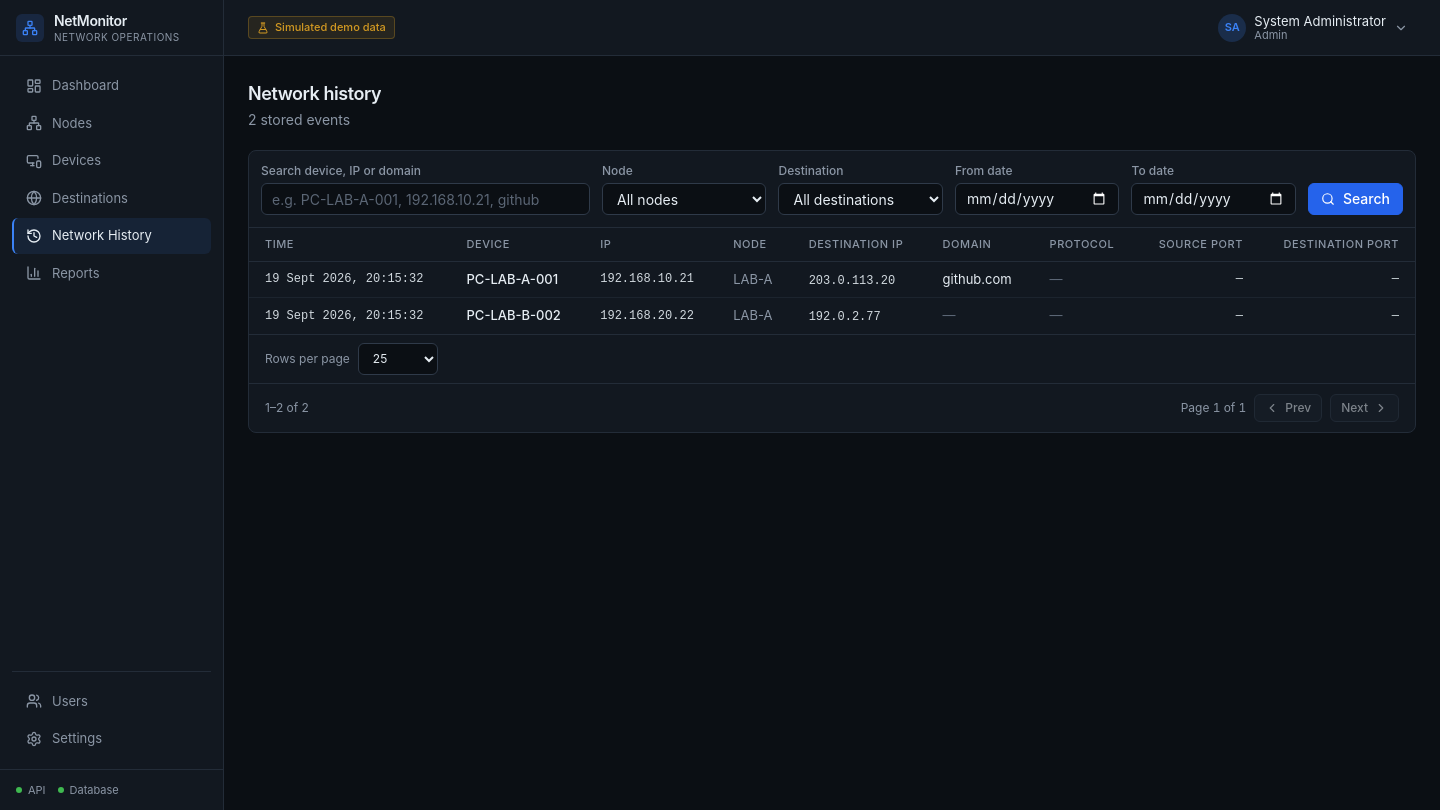
Scenario: HistoryPage › opens and closes the event detail panel
Click the row "PC-LAB-A-001" at (832, 279), box 249,261 -> 1415,298
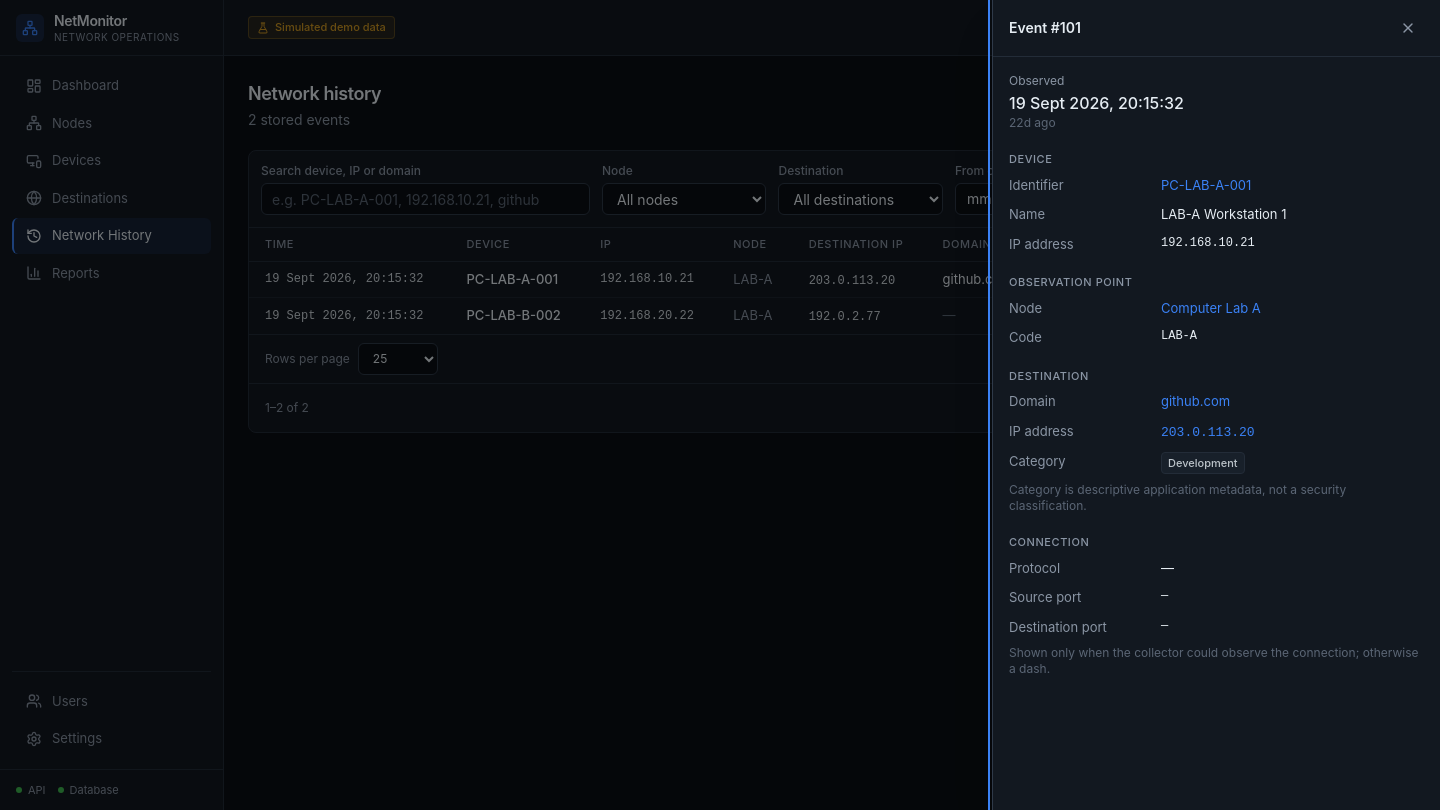
Check: the link "github.com" is shown, box 1161,393 -> 1230,409
Press Escape
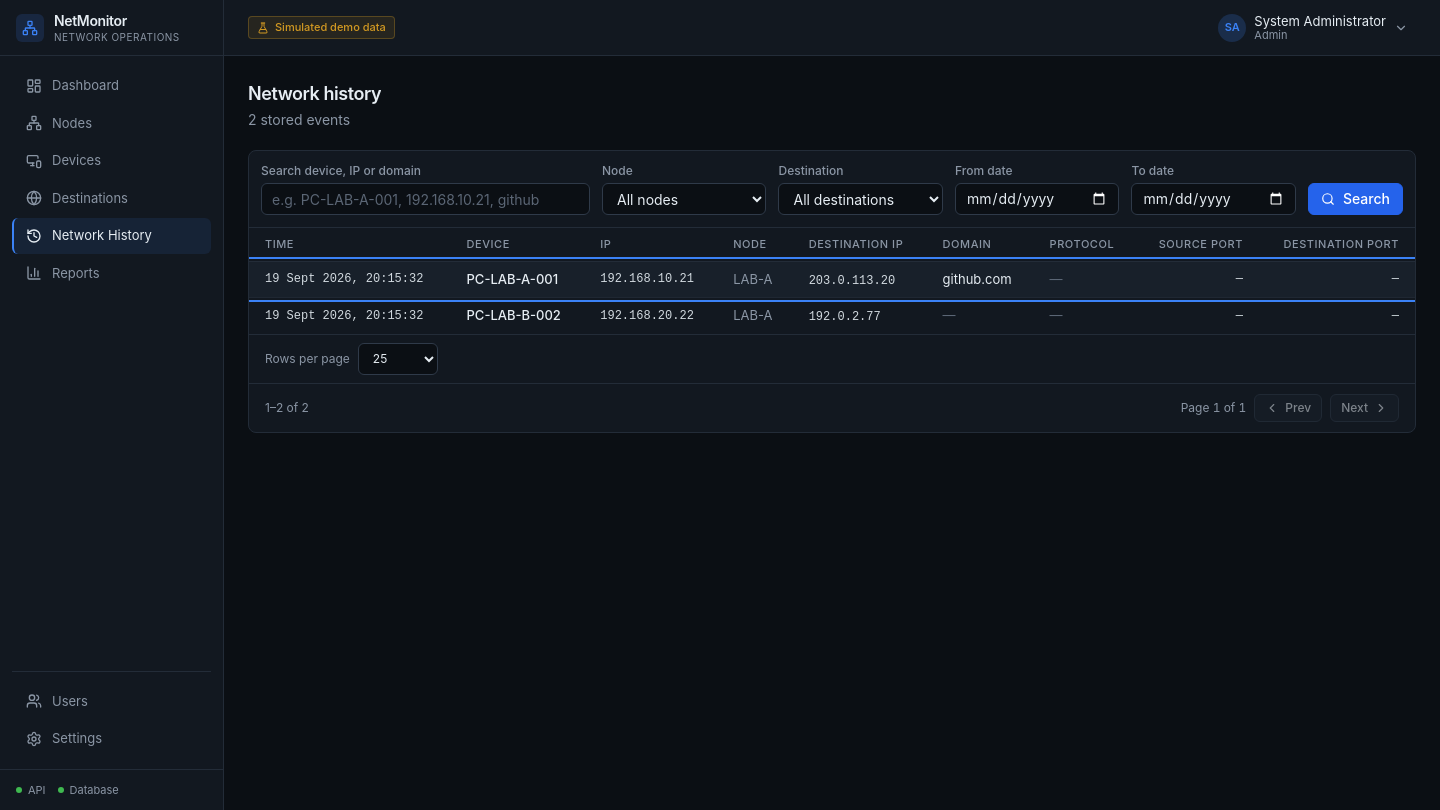
Check: the dialog is gone
